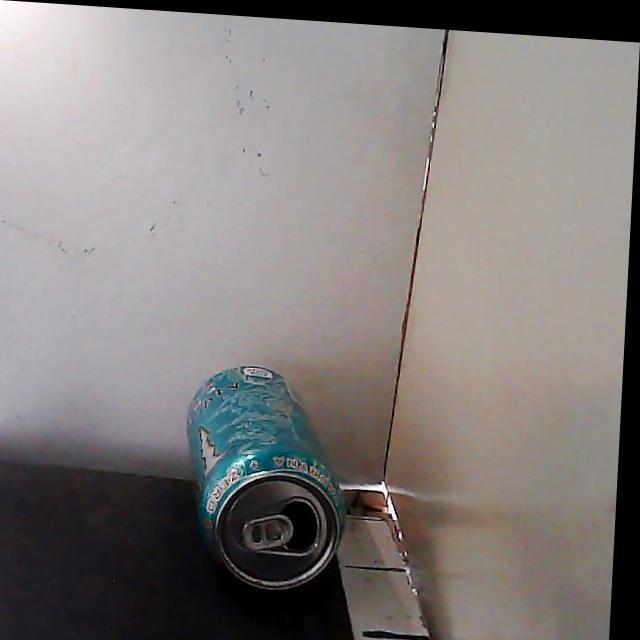metal: (187, 365, 345, 589)
